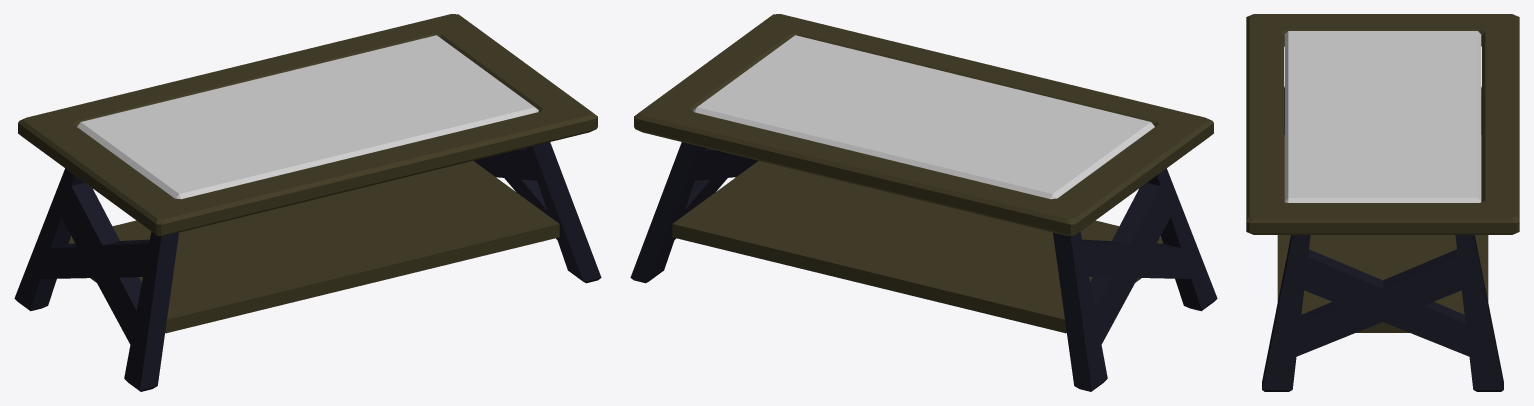
File: Table.obj
3 views of the same model, side by side, from view 1: azimuth 30°, elevation 25°; view 2: azimuth 150°, elevation 25°; view 3: azimuth 270°, elevation 25° (orthographic). The views are drawn at different scales.
Visible parts, largest first — view 1: Table_Cube.010_Mat3, Table_Cube.010_Mat2, Table_Cube.010_Mat4; view 2: Table_Cube.010_Mat3, Table_Cube.010_Mat2, Table_Cube.010_Mat4; view 3: Table_Cube.010_Mat2, Table_Cube.010_Mat3, Table_Cube.010_Mat4.
Boxes of the visible parts, x1,y1,x2,y2 form: Table_Cube.010_Mat3: (18,14,597,333); Table_Cube.010_Mat2: (77,35,538,199); Table_Cube.010_Mat4: (14,142,601,391); Table_Cube.010_Mat3: (634,14,1213,333); Table_Cube.010_Mat2: (693,35,1154,199); Table_Cube.010_Mat4: (630,142,1217,391); Table_Cube.010_Mat2: (1284,31,1481,202); Table_Cube.010_Mat3: (1246,14,1519,332); Table_Cube.010_Mat4: (1262,86,1503,391).
Bounding box in the file's own units: 5.76 × 2.11 × 3.07.
